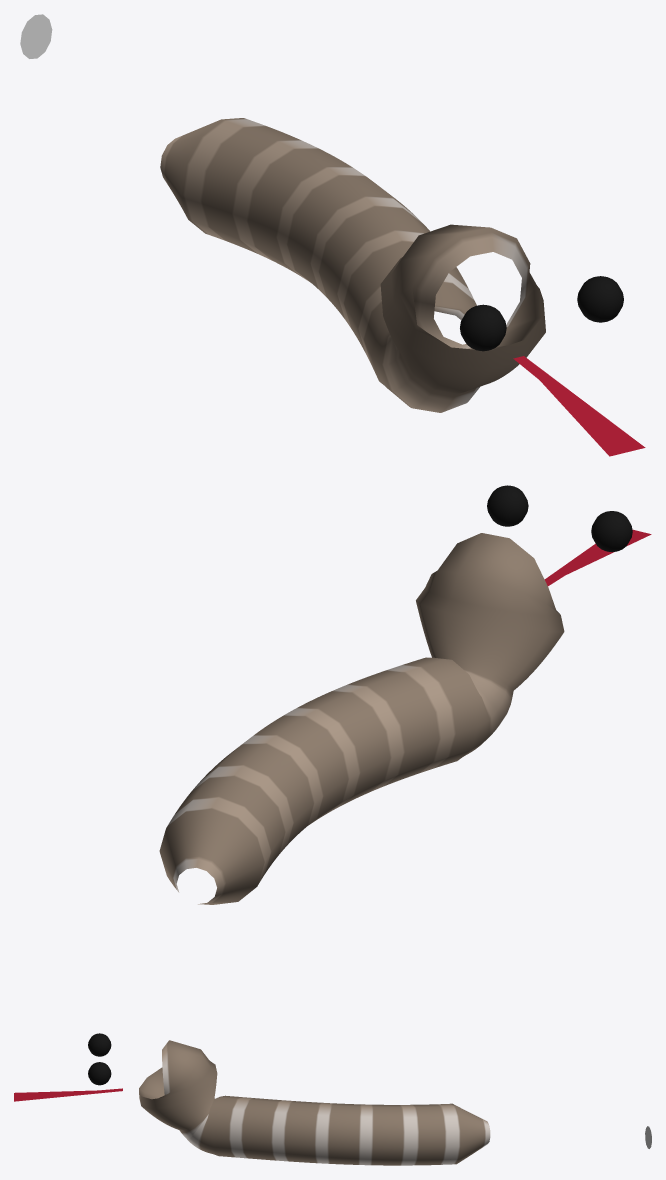
The model's file is arcoiris.glb.
3 renders of one model, top to bottom at view 1: azimuth 30°, elevation 25°; view 2: azimuth 150°, elevation 25°; view 3: azimuth 270°, elevation 25°, orthographic. The views are drawn at different scales.
Size of the model in its own units: 0.422 by 0.4622 by 2.45.
